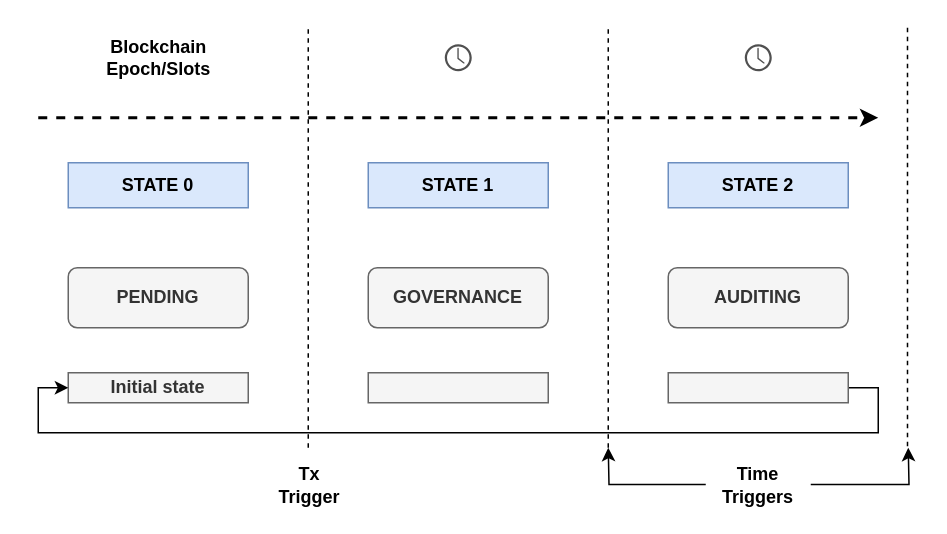
This 947x534 diagram has some shape labels left out. The centre of each missing label's shape, as x and y in pixels:
"First state" goes at (457,387).
"Second state" goes at (757,387).
